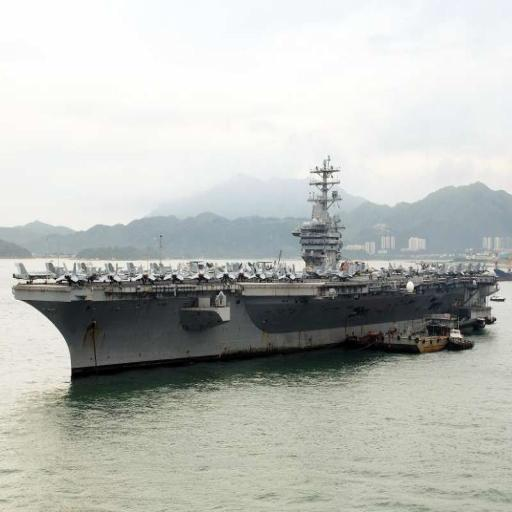Portanaves: (7, 132, 503, 389)
